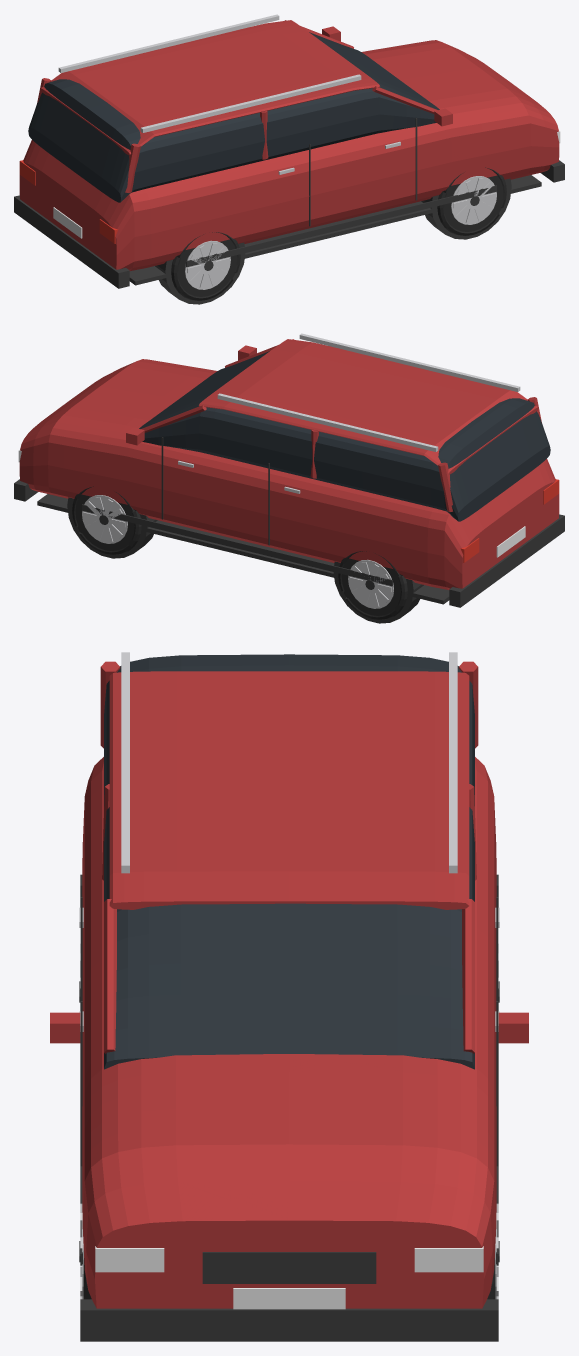
Rendered from SM_Car_SUV.fbx.
3 views of the same model, one above another, from view 1: azimuth 30°, elevation 25°; view 2: azimuth 150°, elevation 25°; view 3: azimuth 270°, elevation 25° (orthographic). The views are drawn at different scales.
Parts seen in each view (by area): view 1: SM_Car_SUV; view 2: SM_Car_SUV; view 3: SM_Car_SUV.
Boxes of the visible parts, bbox=[...] form: SM_Car_SUV: bbox=[14, 14, 564, 304]; SM_Car_SUV: bbox=[14, 333, 564, 623]; SM_Car_SUV: bbox=[50, 652, 528, 1341].
Size of the model in its own units: 2.22 by 4.78 by 1.87.
